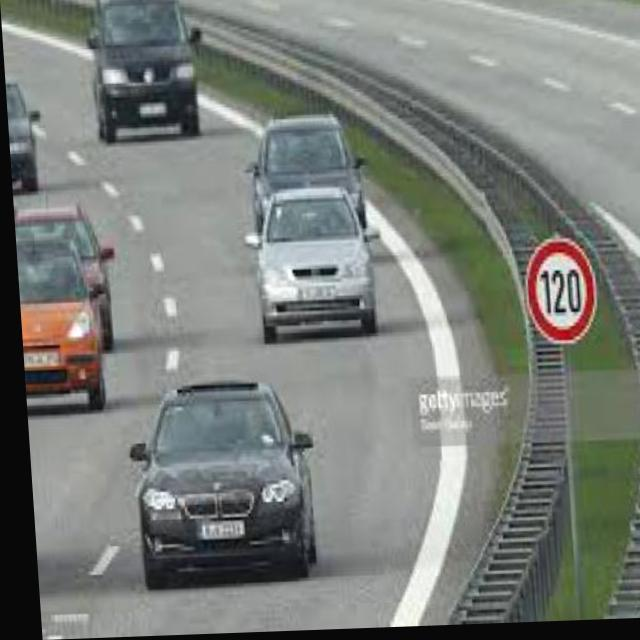limit120: (513, 240, 602, 356)
